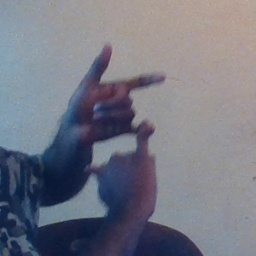S: (54, 41, 172, 203)
